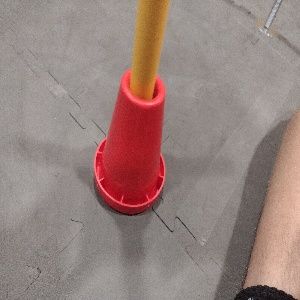Red_1: (90, 69, 167, 214)
